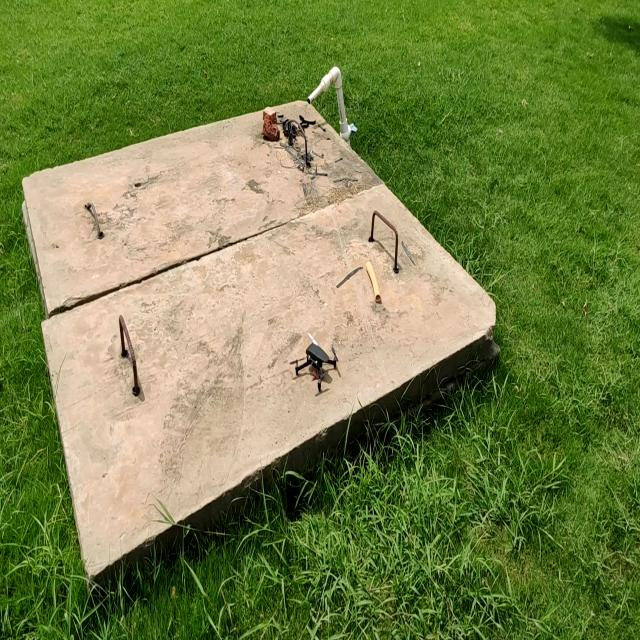drone: (288, 325, 346, 401)
